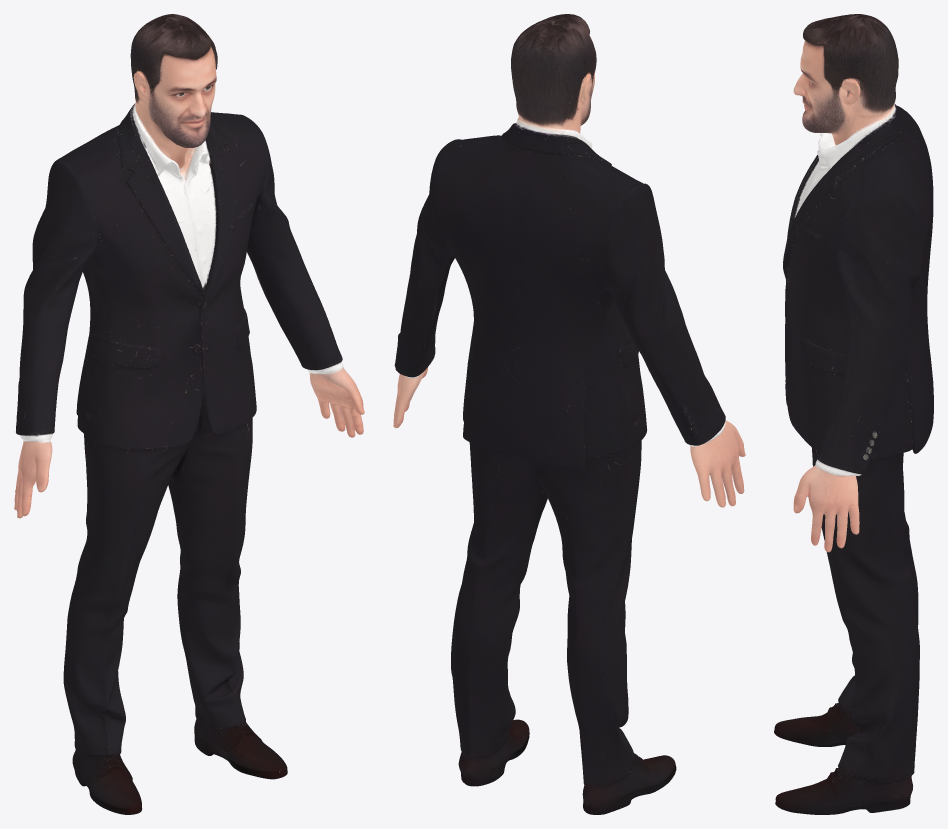
Rendered from saeed-model.glb.
3 views of the same model, side by side, from view 1: azimuth 30°, elevation 25°; view 2: azimuth 150°, elevation 25°; view 3: azimuth 270°, elevation 25° (orthographic).
Parts seen in each view (by area): view 1: char1; view 2: char1; view 3: char1.
Part boxes in pixels (box(x1,y1,x2,y2)): char1: box(14, 14, 364, 814); char1: box(393, 14, 745, 814); char1: box(774, 14, 933, 814).
Size of the model in its own units: 80.43 by 170 by 32.43.
1 material, 1 textured.
